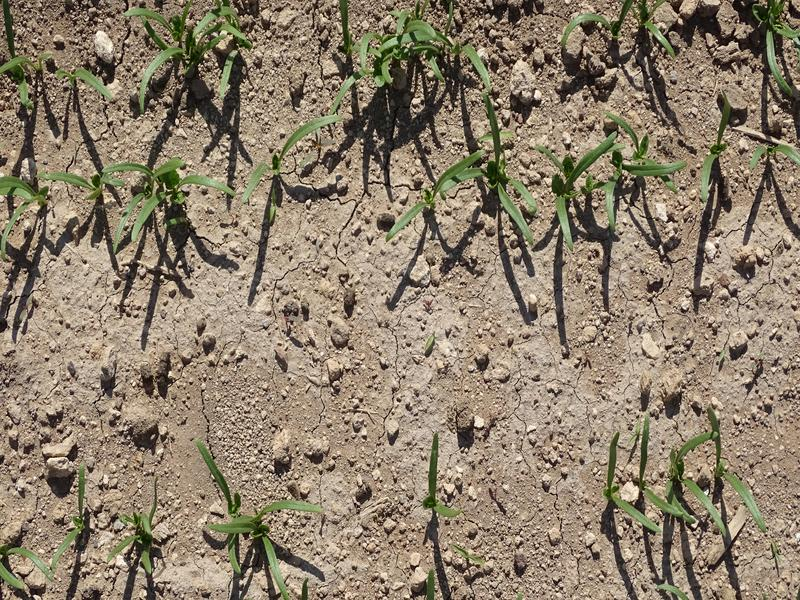Espinaca: (582, 413, 781, 537), (66, 144, 229, 244), (188, 445, 300, 589), (405, 139, 542, 251), (545, 141, 675, 248), (118, 8, 255, 93), (357, 11, 497, 91), (1, 467, 93, 585), (247, 117, 328, 212), (114, 467, 166, 571), (12, 64, 115, 106), (757, 4, 800, 94), (1, 166, 46, 248), (702, 102, 731, 202), (425, 436, 459, 518), (562, 4, 636, 41), (639, 4, 679, 53), (751, 137, 799, 172)
